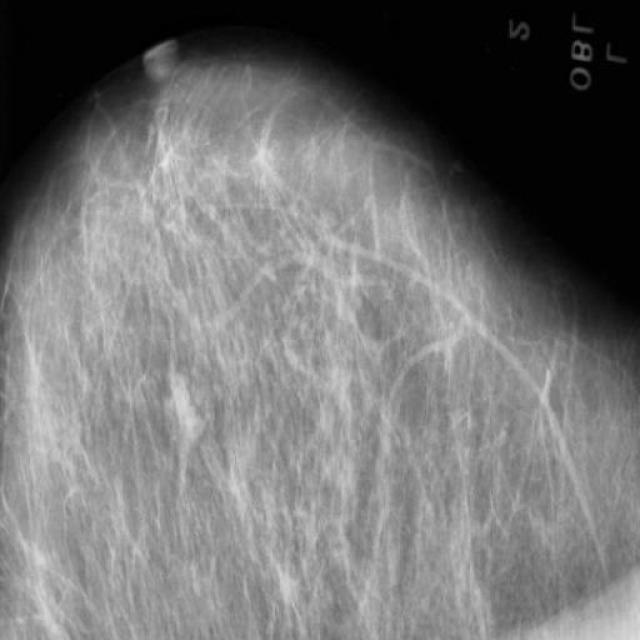cancer: (152, 163, 218, 247)
